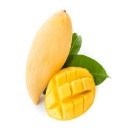mango: (26, 9, 73, 106)
